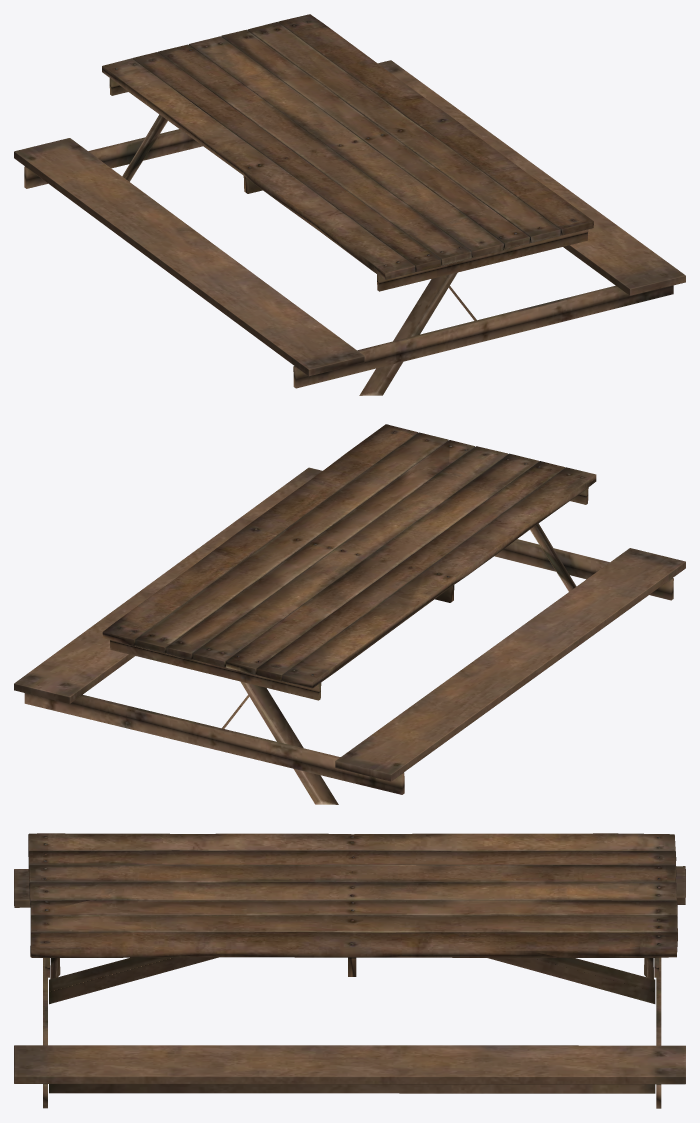
File: picnic.glb
The picture shows the model from 3 angles, top to bottom: view 1: azimuth 30°, elevation 25°; view 2: azimuth 150°, elevation 25°; view 3: azimuth 270°, elevation 25°; orthographic projection. The views are drawn at different scales.
Parts seen in each view (by area): view 1: wooden_picnic_table; view 2: wooden_picnic_table; view 3: wooden_picnic_table.
Part boxes in pixels (left/top/right/bottom): wooden_picnic_table: left=14, top=14, right=685, bottom=395; wooden_picnic_table: left=14, top=424, right=685, bottom=804; wooden_picnic_table: left=14, top=833, right=685, bottom=1108.
Bounding box in the file's own units: 2.24 × 0.7448 × 3.02.
2 materials, 2 textured.
